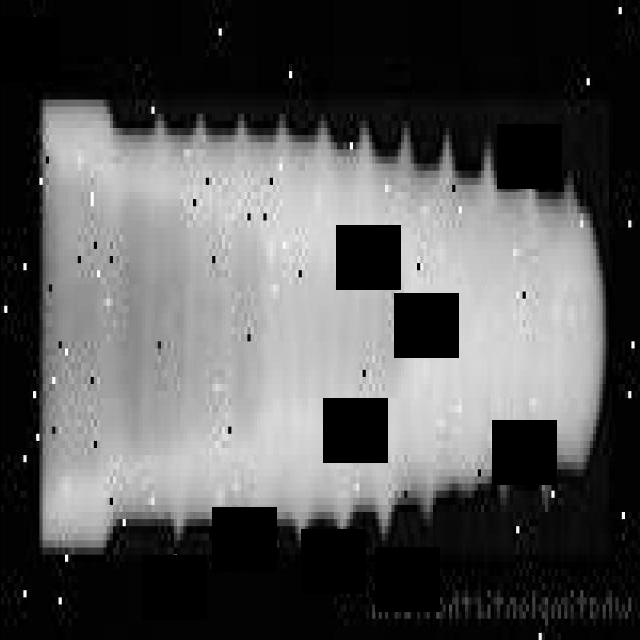Retained root: (38, 99, 610, 559)
